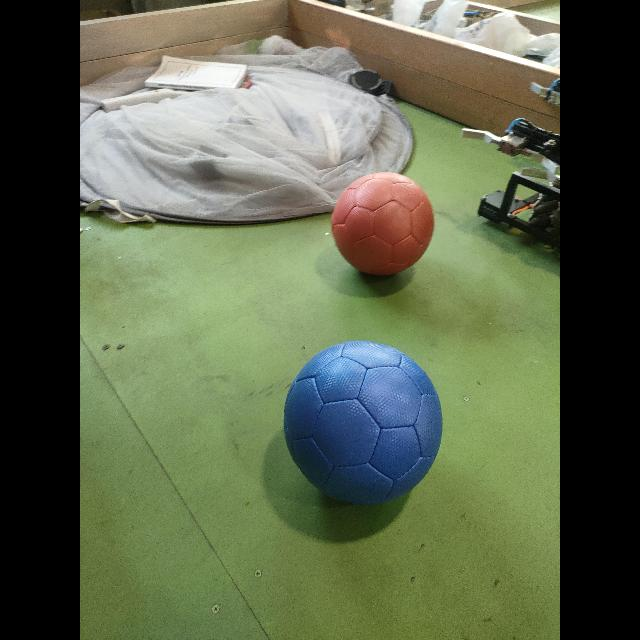B: (282, 341, 444, 509)
R: (330, 172, 436, 280)
